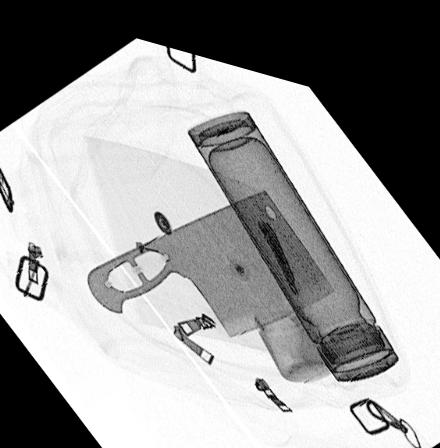Knife: (84, 174, 335, 326)
